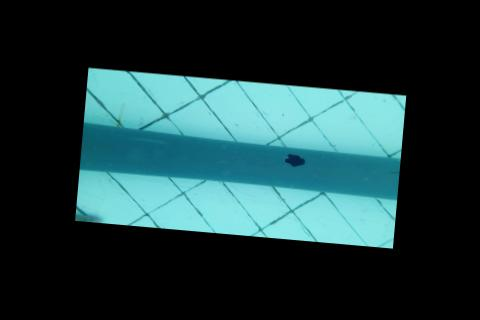kebocoran: (282, 152, 305, 168)
keretakan: (388, 170, 399, 175)
